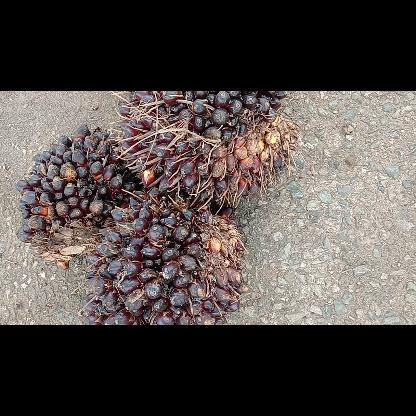TBS mentah: (86, 188, 249, 324), (118, 91, 298, 205), (14, 124, 136, 266)
